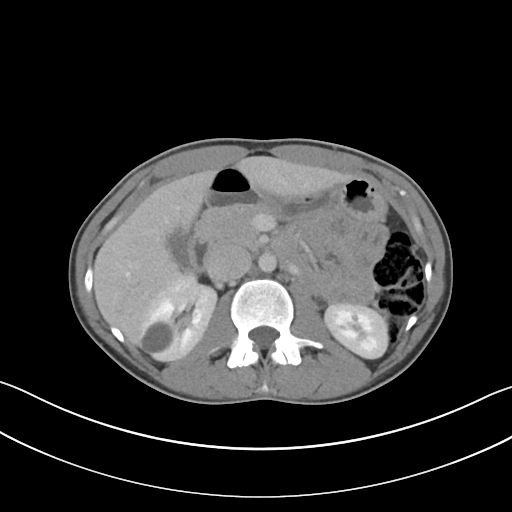Lesion: (135, 318, 175, 354)
